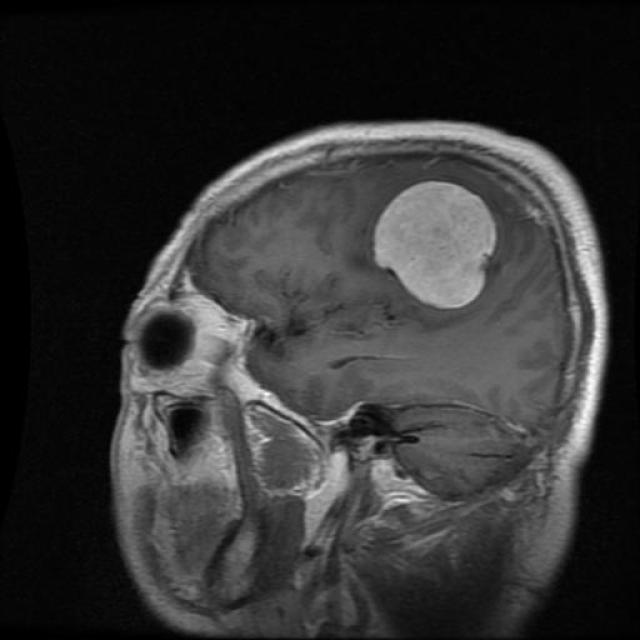meningioma: (375, 181, 496, 310)
